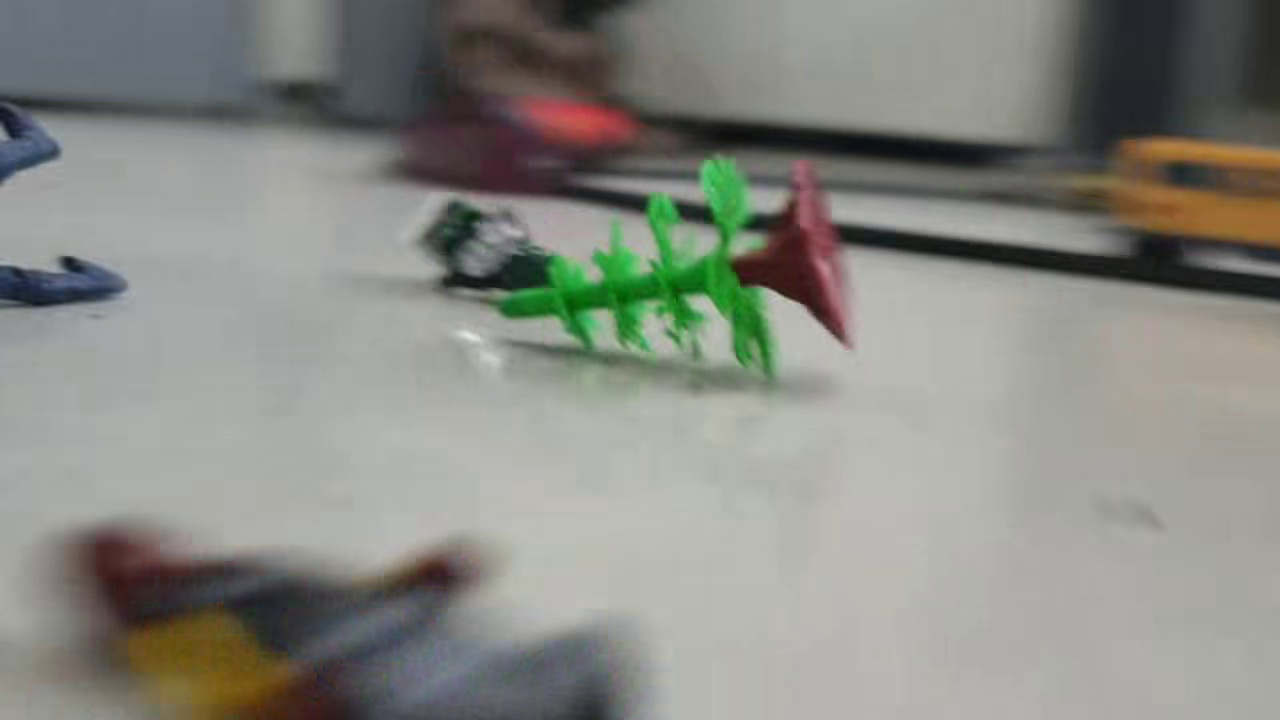people: (62, 509, 661, 720), (406, 192, 566, 304)
tree: (488, 149, 864, 381)
